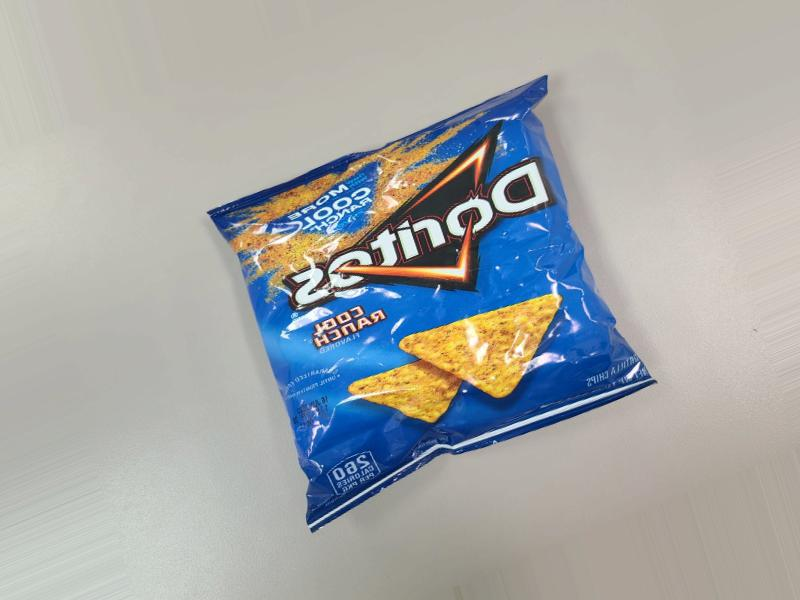doritos: (322, 118, 664, 572)
